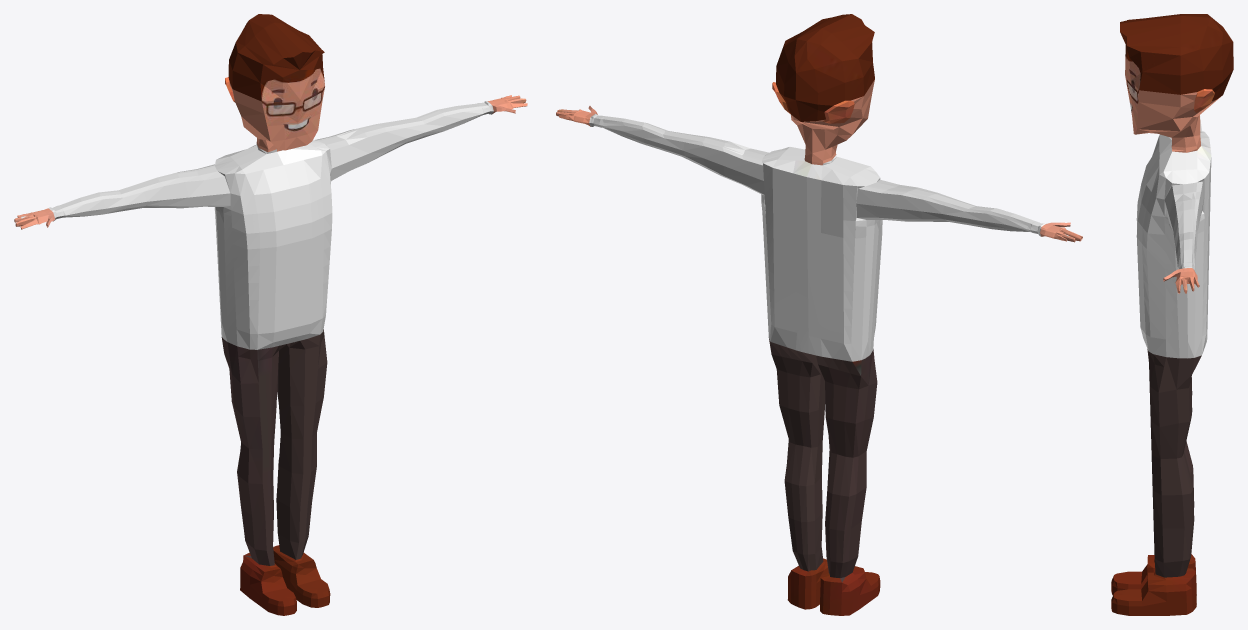
The model's file is player.fbx.
The picture shows the model from 3 angles, left to right: view 1: azimuth 30°, elevation 25°; view 2: azimuth 150°, elevation 25°; view 3: azimuth 270°, elevation 25°; orthographic projection. The views are drawn at different scales.
Parts seen in each view (by area): view 1: Cube; view 2: Cube; view 3: Cube.
Boxes of the visible parts, x1=… form: Cube: x1=14, y1=14, x2=527, y2=615; Cube: x1=556, y1=14, x2=1082, y2=615; Cube: x1=1111, y1=14, x2=1233, y2=615.
Size of the model in its own units: 63.19 by 66.84 by 12.68.
